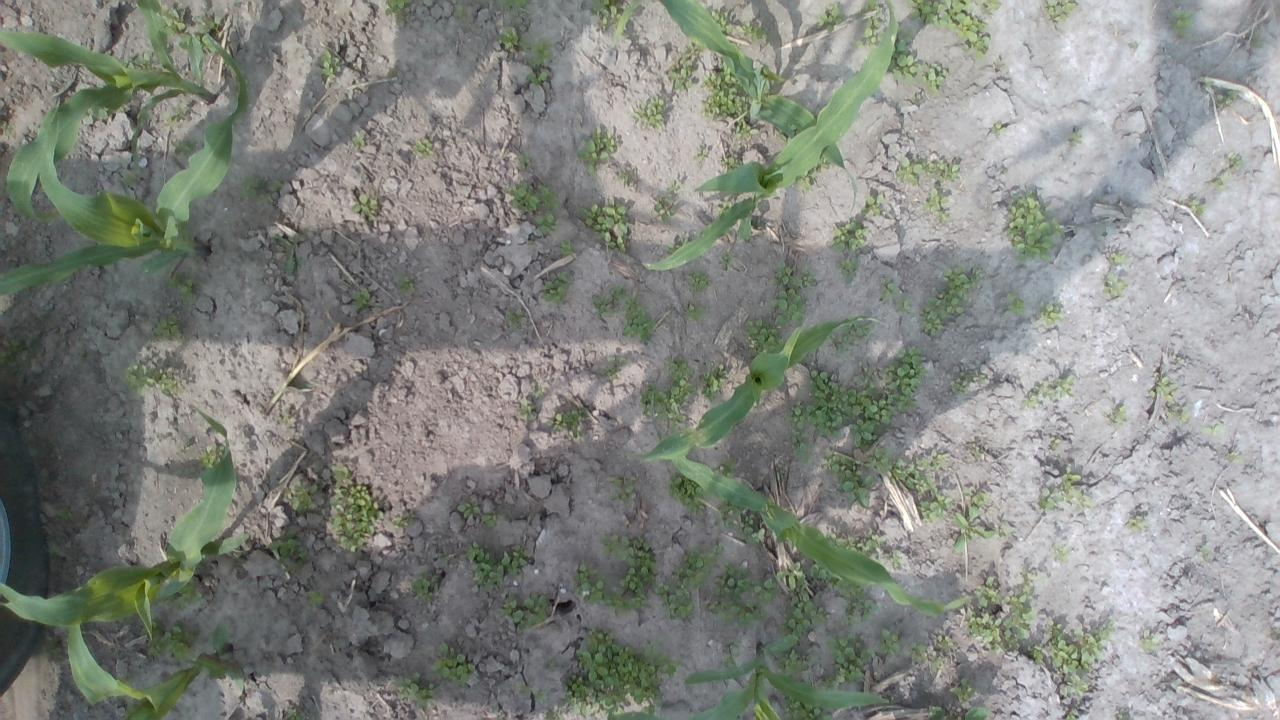Maize: (636, 1, 898, 275), (0, 32, 252, 304), (0, 403, 255, 651), (658, 440, 979, 618), (662, 0, 861, 216), (624, 314, 890, 464), (0, 1, 222, 165), (64, 602, 248, 720), (684, 633, 892, 720)
Weeds: (786, 345, 930, 448), (560, 626, 684, 719), (968, 572, 1038, 654), (908, 0, 998, 62), (326, 464, 384, 556), (1048, 618, 1116, 696), (600, 530, 659, 616), (918, 266, 984, 336), (1004, 191, 1066, 265), (638, 358, 696, 437), (711, 562, 777, 626), (660, 550, 720, 619), (820, 448, 874, 509), (701, 61, 753, 122), (467, 542, 529, 590), (578, 199, 632, 254), (506, 183, 563, 234), (822, 633, 873, 690), (771, 264, 815, 328), (582, 1, 642, 42), (716, 500, 766, 547), (144, 617, 195, 661), (1040, 468, 1090, 512), (784, 592, 830, 638), (952, 506, 994, 555), (500, 592, 550, 632), (431, 642, 476, 686), (124, 362, 179, 398), (888, 26, 921, 86), (900, 452, 946, 494), (578, 126, 618, 174), (896, 156, 962, 185), (1022, 374, 1076, 408), (572, 556, 608, 606), (620, 295, 658, 342), (272, 532, 312, 576), (391, 672, 438, 709), (666, 42, 700, 93), (668, 472, 706, 516), (744, 316, 786, 354), (164, 580, 208, 616), (829, 218, 871, 255), (830, 530, 889, 556), (855, 0, 886, 49), (831, 319, 874, 353), (288, 480, 324, 518), (240, 175, 282, 207), (458, 498, 504, 527), (777, 645, 814, 678), (883, 280, 915, 317), (552, 408, 590, 439), (918, 493, 955, 524), (542, 270, 573, 307), (698, 364, 728, 402), (994, 289, 1032, 318), (922, 188, 952, 224), (782, 697, 831, 719), (633, 97, 666, 129), (846, 597, 882, 626), (652, 185, 679, 222), (951, 368, 989, 394), (919, 62, 948, 96), (157, 2, 187, 34), (151, 314, 184, 343), (411, 570, 439, 604), (588, 288, 624, 314), (607, 476, 636, 507), (597, 356, 629, 384), (493, 27, 525, 55), (279, 238, 301, 278), (876, 626, 905, 656), (1169, 7, 1196, 38), (1046, 0, 1078, 26), (1153, 373, 1179, 404), (120, 48, 154, 71), (1210, 82, 1240, 108), (167, 276, 197, 302), (318, 50, 343, 81), (529, 38, 555, 65), (836, 578, 866, 601), (1038, 302, 1064, 328), (1102, 272, 1128, 298), (951, 676, 977, 702), (1107, 396, 1131, 424), (1196, 534, 1218, 564), (708, 7, 734, 32), (501, 308, 526, 334), (870, 445, 893, 473), (838, 257, 861, 285), (521, 391, 543, 420), (351, 194, 378, 217), (808, 562, 836, 584), (200, 445, 225, 469), (964, 488, 991, 509), (526, 63, 550, 86), (688, 270, 712, 292), (860, 195, 885, 216), (520, 684, 546, 704), (1140, 629, 1163, 651), (737, 118, 759, 140), (909, 642, 930, 665), (412, 138, 437, 157), (664, 235, 690, 253), (1170, 401, 1190, 424), (1224, 152, 1246, 172), (389, 513, 418, 528), (353, 287, 371, 311), (558, 241, 582, 258), (1126, 514, 1146, 534), (396, 274, 414, 296), (349, 131, 366, 153), (720, 155, 743, 171), (307, 589, 326, 608), (386, 1, 406, 18), (686, 304, 707, 320), (499, 0, 530, 10), (720, 252, 733, 272), (888, 553, 902, 571), (1052, 544, 1066, 561), (1049, 438, 1062, 453), (969, 445, 983, 458)
